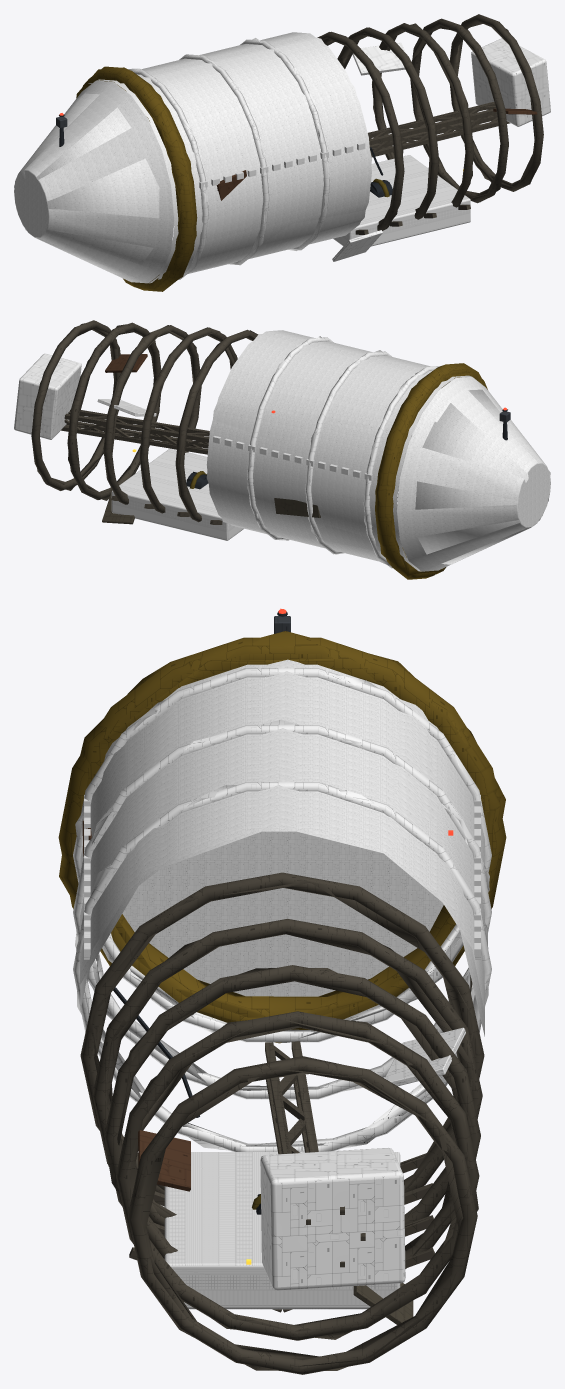
The model's file is place_ceres_bait_wreck.glb.
3 views of the same model, one above another, from view 1: azimuth 30°, elevation 25°; view 2: azimuth 150°, elevation 25°; view 3: azimuth 270°, elevation 25° (orthographic). The views are drawn at different scales.
Parts seen in each view (by area): view 1: LOD0_deadmetal, LOD2_deadmetal, LOD0_BrushedMetal, LOD1_deadmetal, LOD0_deadmetal_deep, LOD0_MechanicalDark, LOD1_BrushedMetal, LOD2_BrushedMetal, LOD0_Livery, LOD2_Livery, LOD1_Livery, LOD1_deadmetal_deep (+2 smaller); view 2: LOD0_deadmetal, LOD2_deadmetal, LOD0_BrushedMetal, LOD1_deadmetal, LOD0_deadmetal_deep, LOD0_MechanicalDark, LOD1_BrushedMetal, LOD2_BrushedMetal, LOD0_Livery, LOD2_Livery, LOD1_Livery, LOD1_deadmetal_deep (+3 smaller); view 3: LOD0_deadmetal, LOD0_BrushedMetal, LOD0_deadmetal_deep, LOD1_deadmetal, LOD2_deadmetal, LOD1_BrushedMetal, LOD2_BrushedMetal, LOD0_MechanicalDark, LOD0_Livery, LOD2_Livery, LOD2_deadmetal_deep, LOD1_Livery (+2 smaller).
Part boxes in pixels (x1,y1,x2,y2): LOD0_deadmetal: (14, 32, 405, 283); LOD2_deadmetal: (14, 37, 404, 279); LOD0_BrushedMetal: (317, 14, 543, 234); LOD1_deadmetal: (14, 32, 371, 282); LOD0_deadmetal_deep: (133, 38, 550, 279); LOD0_MechanicalDark: (199, 142, 470, 246); LOD1_BrushedMetal: (320, 15, 543, 229); LOD2_BrushedMetal: (322, 16, 543, 230); LOD0_Livery: (80, 66, 197, 291); LOD2_Livery: (76, 67, 196, 291); LOD1_Livery: (100, 69, 196, 288); LOD1_deadmetal_deep: (133, 40, 550, 268); LOD0_deadmetal: (97, 330, 550, 571); LOD2_deadmetal: (126, 334, 550, 570); LOD0_BrushedMetal: (31, 320, 257, 524); LOD1_deadmetal: (207, 330, 550, 571); LOD0_deadmetal_deep: (14, 337, 441, 568); LOD0_MechanicalDark: (111, 436, 372, 540); LOD1_BrushedMetal: (31, 323, 256, 524); LOD2_BrushedMetal: (31, 321, 258, 521); LOD0_Livery: (375, 363, 487, 579); LOD2_Livery: (375, 364, 483, 579); LOD1_Livery: (375, 363, 484, 579); LOD1_deadmetal_deep: (14, 339, 437, 567); LOD0_deadmetal: (80, 664, 484, 1207); LOD0_BrushedMetal: (80, 872, 484, 1374); LOD0_deadmetal_deep: (73, 668, 491, 1290); LOD1_deadmetal: (80, 664, 484, 1010); LOD2_deadmetal: (80, 659, 484, 1084); LOD1_BrushedMetal: (81, 873, 482, 1371); LOD2_BrushedMetal: (85, 872, 479, 1370); LOD0_MechanicalDark: (84, 795, 480, 1309); LOD0_Livery: (58, 637, 506, 1029); LOD2_Livery: (59, 631, 505, 1043); LOD2_deadmetal_deep: (75, 668, 489, 1150); LOD1_Livery: (59, 637, 505, 1029).
Size of what is drawn, in the model's own units: 68.31 by 27.03 by 26.6.
Materials: 12 (10 with a texture image).
